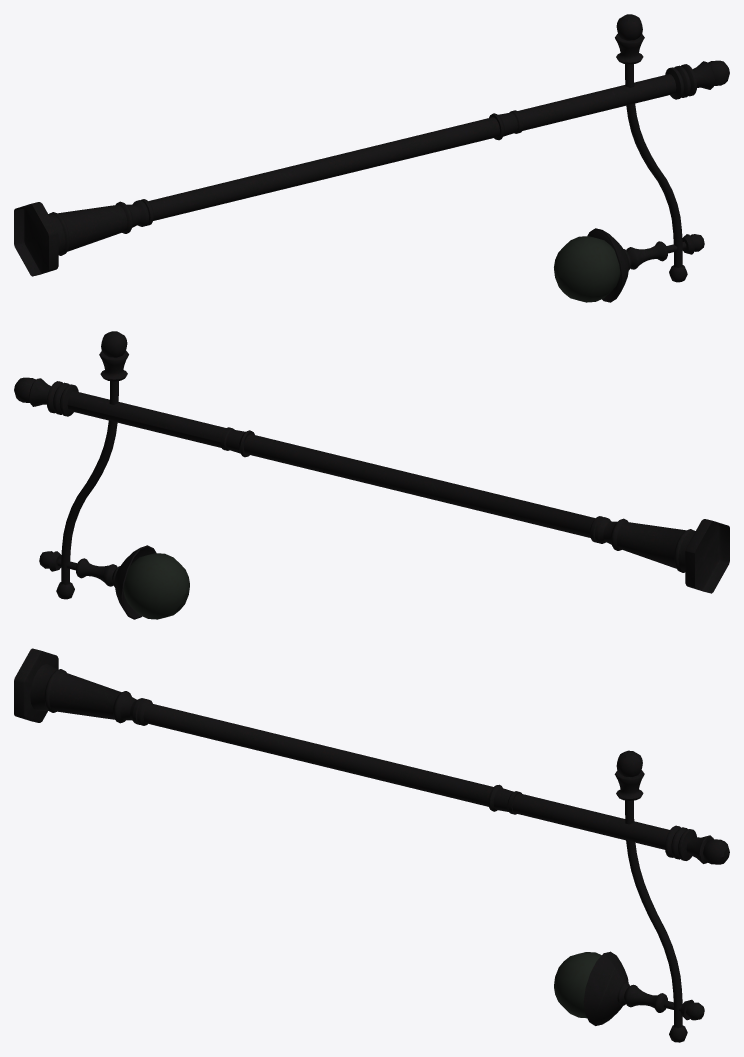
Rendered from cP_StreetLight_Tall02.dae.
3 renders of one model, top to bottom at view 1: azimuth 30°, elevation 25°; view 2: azimuth 150°, elevation 25°; view 3: azimuth 330°, elevation 25°, orthographic.
Visible parts, largest first — view 1: cP_StreetLight_Tall02.001; view 2: cP_StreetLight_Tall02.001; view 3: cP_StreetLight_Tall02.001.
Part boxes in pixels (x1=…): cP_StreetLight_Tall02.001: x1=14, y1=14, x2=729, y2=302; cP_StreetLight_Tall02.001: x1=14, y1=331, x2=729, y2=619; cP_StreetLight_Tall02.001: x1=14, y1=648, x2=729, y2=1042.
Size of the model in its own units: 7 by 0.6769 by 2.67.
